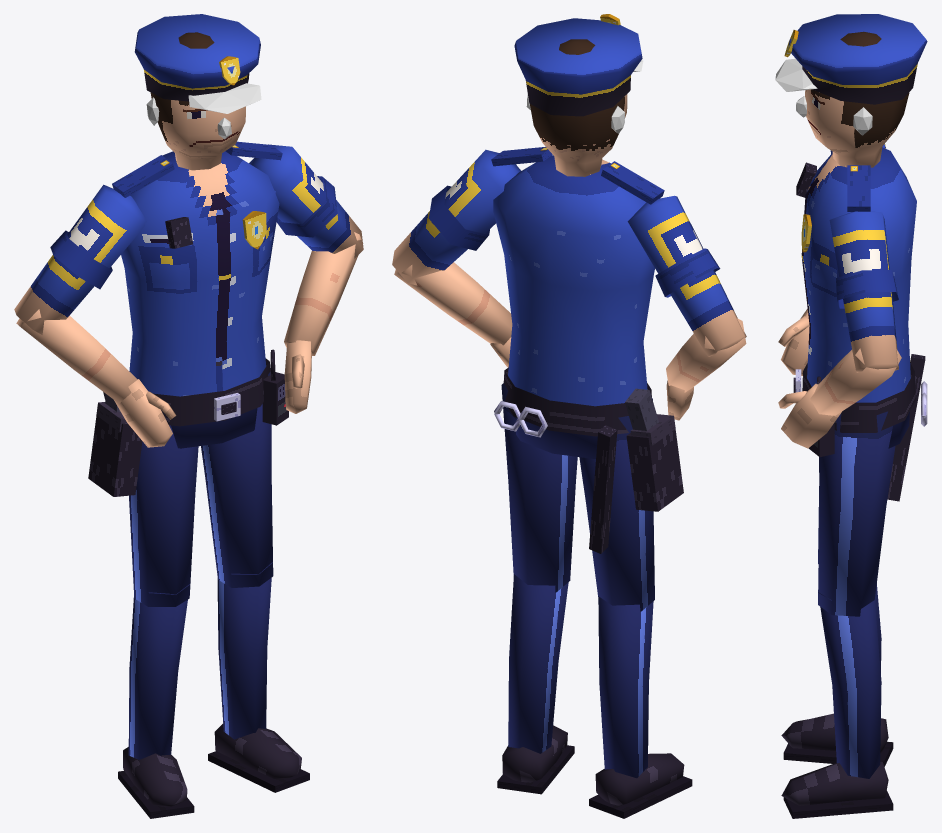
Rendered from Police Officer.fbx.
The picture shows the model from 3 angles, left to right: view 1: azimuth 30°, elevation 25°; view 2: azimuth 150°, elevation 25°; view 3: azimuth 270°, elevation 25°; orthographic projection.
Parts seen in each view (by area): view 1: Police Officer torso, Police Officer thigh R, Police Officer thigh L, Police Officer cap crown, Police Officer shin R.001, Police Officer shin L.001, Police Officer upper arm R, Police Officer upper arm L, Police Officer head.001, Police Officer forearm L.001, Police Officer forearm R.001, Police Officer holster.001 (+15 smaller); view 2: Police Officer torso, Police Officer cap crown, Police Officer thigh L, Police Officer shin R.001, Police Officer shin L.001, Police Officer thigh R, Police Officer upper arm R, Police Officer upper arm L, Police Officer head.001, Police Officer forearm L.001, Police Officer holster.001, Police Officer duty belt (+13 smaller); view 3: Police Officer torso, Police Officer thigh L, Police Officer cap crown, Police Officer shin L.001, Police Officer upper arm L, Police Officer head.001, Police Officer shoe L, Police Officer forearm L.001, Police Officer duty belt, Police Officer hand L.001, Police Officer shoe R, Police Officer sole L (+11 smaller).
Part boxes in pixels (box(x1,y1,x2,y2)): Police Officer torso: box(121, 151, 279, 448); Police Officer thigh R: box(129, 425, 198, 606); Police Officer thigh L: box(201, 372, 273, 587); Police Officer cap crown: box(134, 14, 260, 101); Police Officer shin R.001: box(128, 584, 189, 759); Police Officer shin L.001: box(217, 562, 272, 739); Police Officer upper arm R: box(14, 184, 146, 334); Police Officer upper arm L: box(249, 144, 363, 258); Police Officer head.001: box(150, 32, 245, 170); Police Officer forearm L.001: box(284, 232, 363, 355); Police Officer forearm R.001: box(16, 309, 137, 403); Police Officer holster.001: box(88, 415, 142, 496); Police Officer torso: box(493, 155, 654, 458); Police Officer cap crown: box(514, 18, 642, 116); Police Officer thigh L: box(501, 383, 577, 592); Police Officer shin R.001: box(598, 596, 653, 778); Police Officer shin L.001: box(508, 574, 568, 753); Police Officer thigh R: box(579, 398, 654, 611); Police Officer upper arm R: box(627, 195, 746, 356); Police Officer upper arm L: box(392, 149, 520, 285); Police Officer head.001: box(530, 39, 627, 176); Police Officer forearm L.001: box(394, 262, 512, 345); Police Officer holster.001: box(626, 429, 683, 511); Police Officer duty belt: box(503, 367, 651, 436); Police Officer torso: box(801, 147, 916, 448); Police Officer thigh L: box(818, 411, 895, 616); Police Officer cap crown: box(788, 14, 927, 104); Police Officer shin L.001: box(818, 592, 881, 778); Police Officer upper arm L: box(829, 211, 898, 372); Police Officer head.001: box(805, 31, 909, 167); Police Officer shoe L: box(781, 761, 888, 805); Police Officer forearm L.001: box(810, 348, 901, 415); Police Officer duty belt: box(802, 363, 915, 432); Police Officer hand L.001: box(781, 383, 841, 448); Police Officer shoe R: box(781, 713, 888, 753); Police Officer sole L: box(783, 790, 893, 818).
Size of the model in its own units: 0.863 by 1.77 by 0.3265.
Materials: 18 (16 with a texture image).
